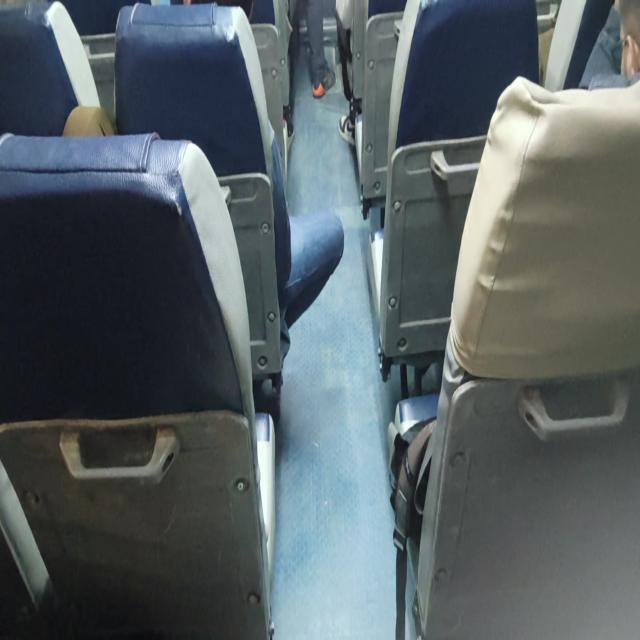person: (412, 1, 639, 636), (287, 0, 336, 98), (588, 0, 640, 90), (615, 0, 639, 85)
